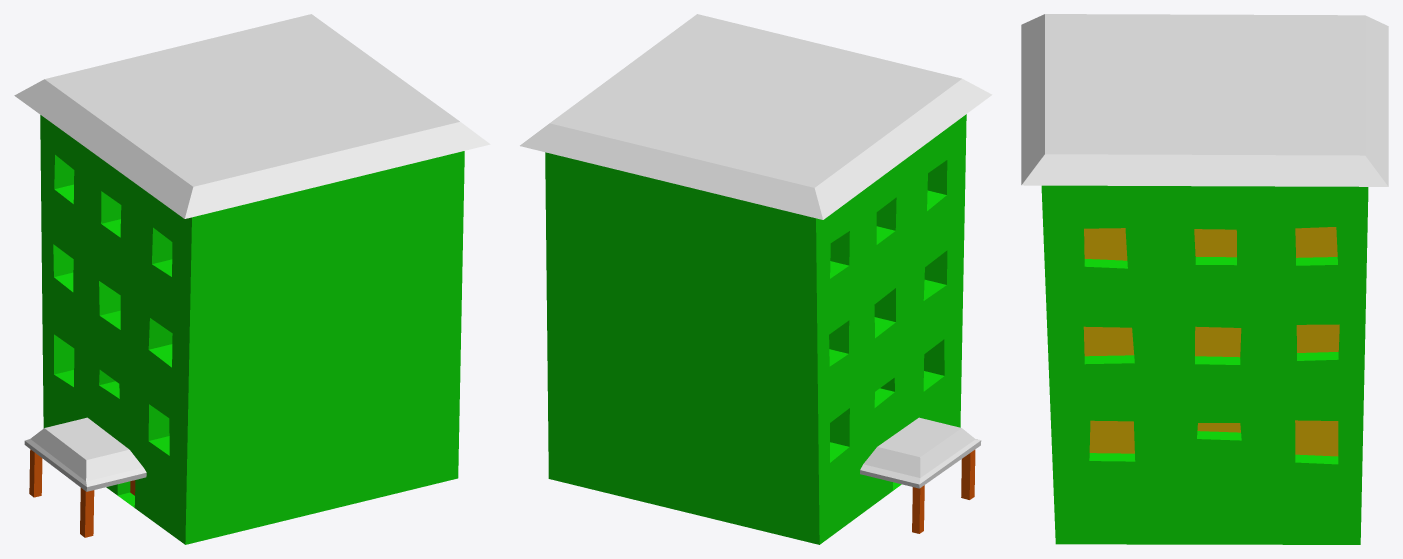
File: Building4.fbx
The picture shows the model from 3 angles, left to right: view 1: azimuth 30°, elevation 25°; view 2: azimuth 150°, elevation 25°; view 3: azimuth 270°, elevation 25°; orthographic projection. The views are drawn at different scales.
Visible parts, largest first — view 1: Plane; view 2: Plane; view 3: Plane.
Boxes of the visible parts, <box> form: Plane: <box>14,14,490,544</box>; Plane: <box>520,14,992,544</box>; Plane: <box>1021,14,1388,544</box>.
Bounding box in the file's own units: 119 × 121 × 101.
